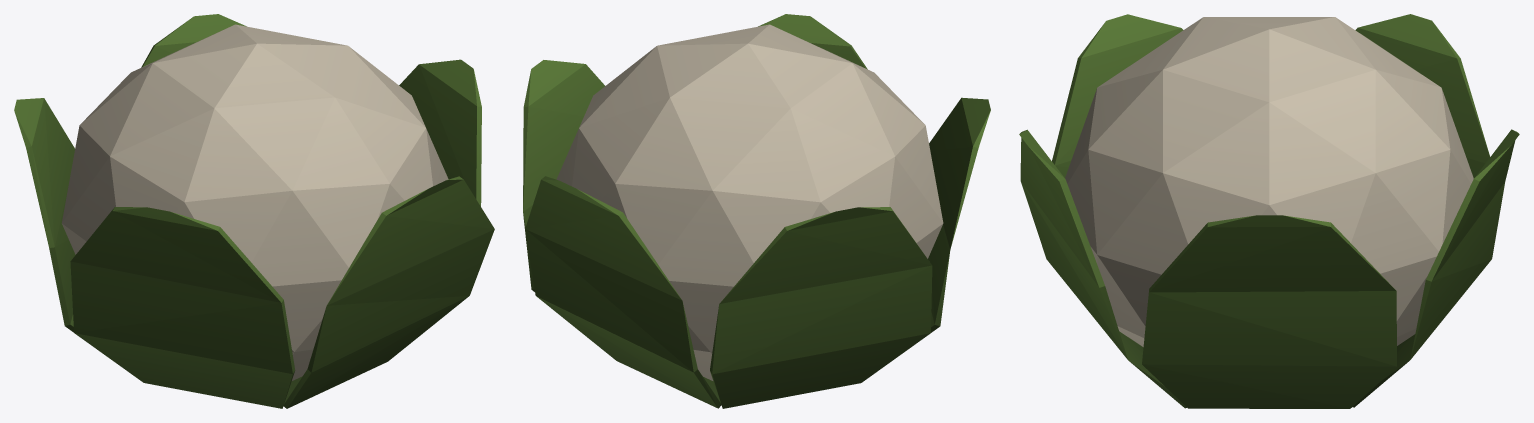
Rendered from Crop_Cauliflower_01.obj.
The picture shows the model from 3 angles, left to right: view 1: azimuth 30°, elevation 25°; view 2: azimuth 150°, elevation 25°; view 3: azimuth 270°, elevation 25°; orthographic projection. The views are drawn at different scales.
Parts seen in each view (by area): view 1: Crop_Cauliflower_01; view 2: Crop_Cauliflower_01; view 3: Crop_Cauliflower_01.
Boxes of the visible parts, bbox=[...] form: Crop_Cauliflower_01: bbox=[14, 14, 494, 408]; Crop_Cauliflower_01: bbox=[523, 14, 990, 408]; Crop_Cauliflower_01: bbox=[1019, 14, 1519, 408].
Size of the model in its own units: 0.3172 by 0.2486 by 0.3175.
Materials: 1 (1 with a texture image).
